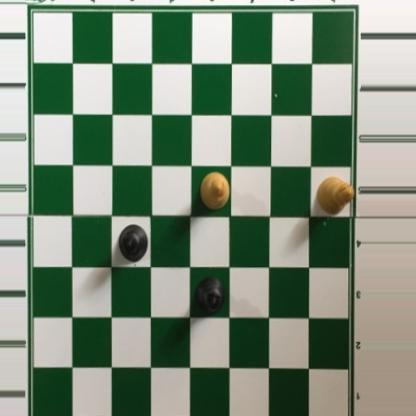black-bishop: (118, 223, 149, 265), (192, 276, 225, 315)
white-bishop: (315, 175, 355, 217), (199, 171, 230, 211)
